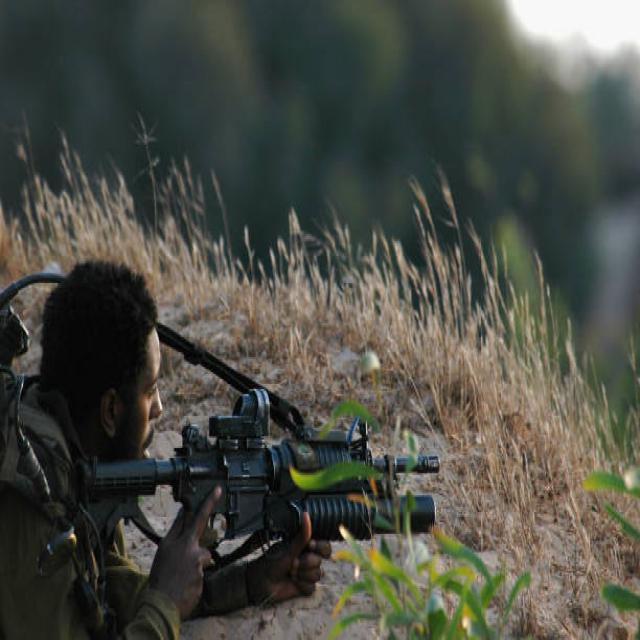soldier: (1, 253, 443, 640)
